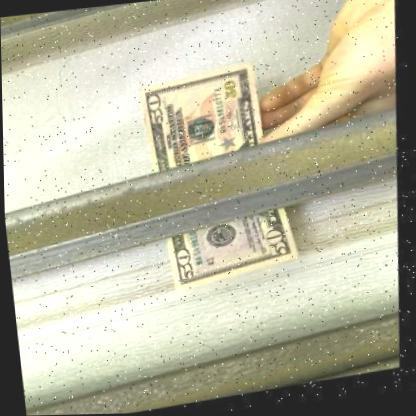fifty-front: (138, 65, 303, 293)
